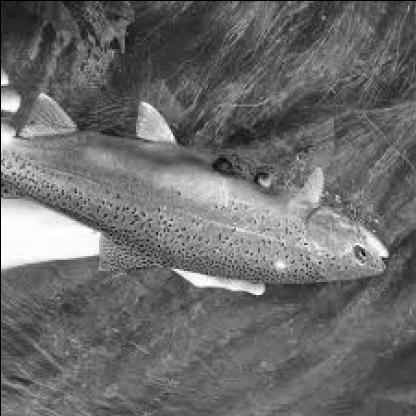fish: (2, 92, 392, 286)
